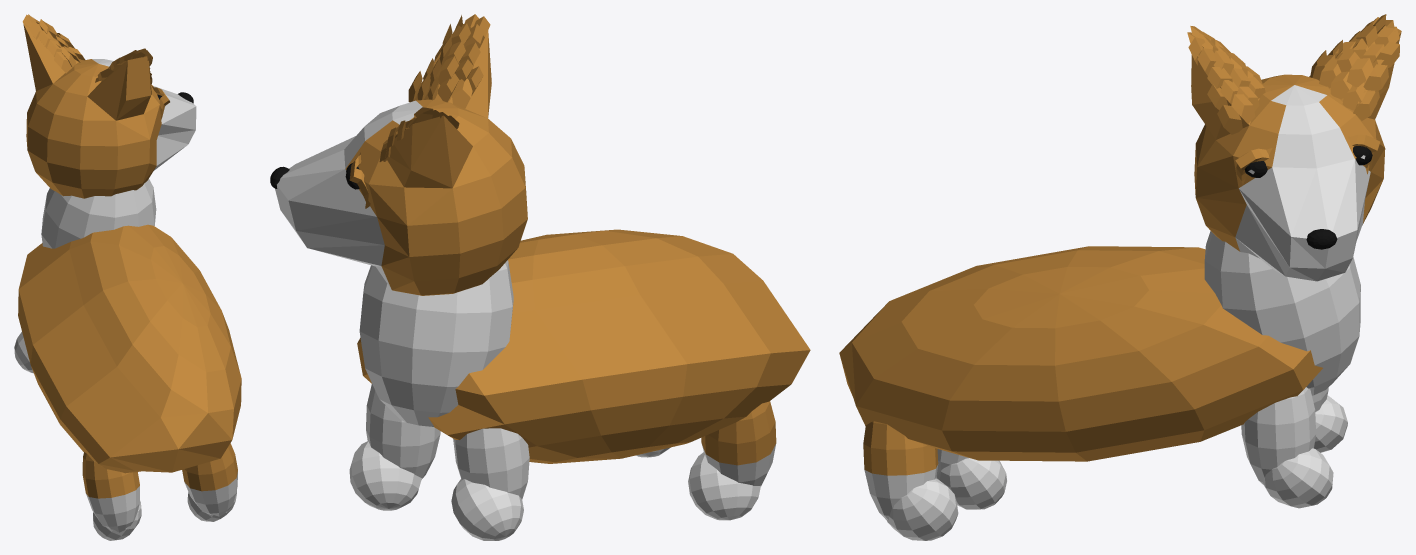
3 renders of one model, left to right at view 1: azimuth 30°, elevation 25°; view 2: azimuth 150°, elevation 25°; view 3: azimuth 270°, elevation 25°, orthographic. The views are drawn at different scales.
Visible parts, largest first — view 1: node_MeshObject1085865920-PolyPaper21; view 2: node_MeshObject1085865920-PolyPaper21; view 3: node_MeshObject1085865920-PolyPaper21.
Part boxes in pixels (x1,y1,x2,y2): node_MeshObject1085865920-PolyPaper21: [14, 14, 241, 540]; node_MeshObject1085865920-PolyPaper21: [270, 14, 810, 540]; node_MeshObject1085865920-PolyPaper21: [839, 14, 1401, 540].
Bounding box in the file's own units: 0.3666 × 0.5745 × 0.536.
